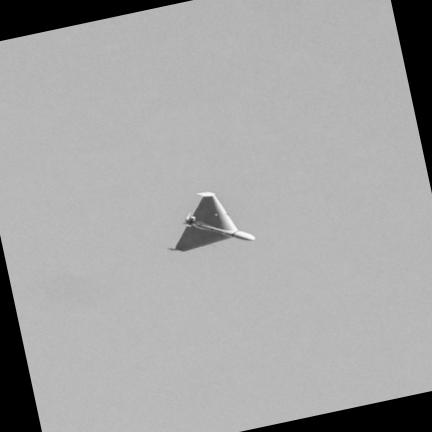Shahed: (170, 192, 254, 252)
